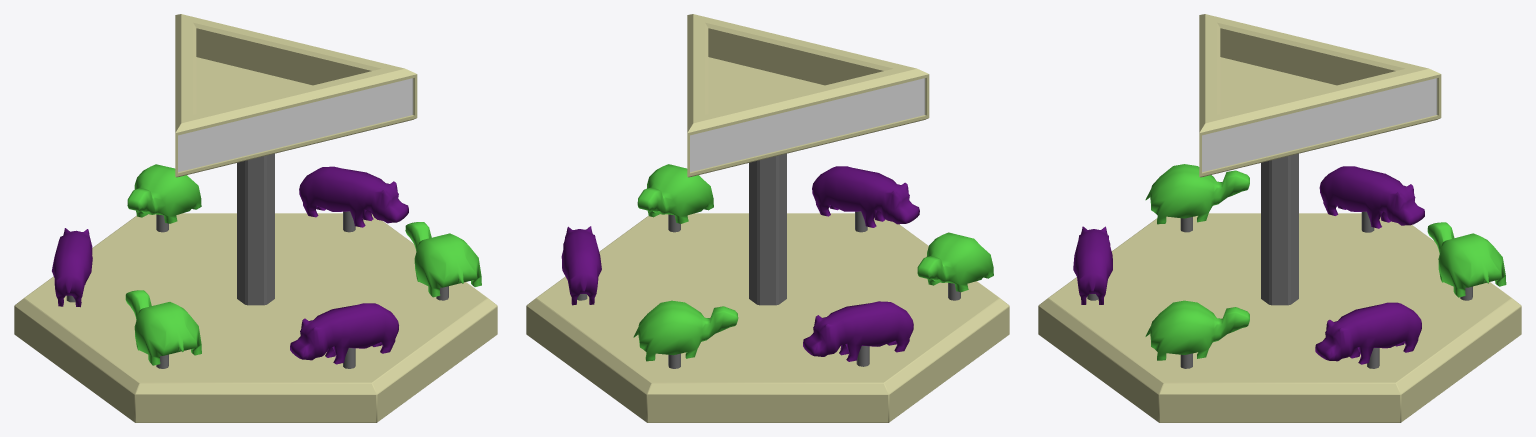
File: carousel.fbx
3 renders of one model, left to right at view 1: azimuth 30°, elevation 25°; view 2: azimuth 150°, elevation 25°; view 3: azimuth 270°, elevation 25°, orthographic.
Parts seen in each view (by area): view 1: Carousel_base, Carousel_billboard, Carousel_hippo_1, Carousel_hippo_2, Carousel_turtle_2, Carousel_turtle_1, Carousel_turtle_3, Carousel_hippo_3; view 2: Carousel_base, Carousel_billboard, Carousel_hippo_3, Carousel_hippo_2, Carousel_turtle_3, Carousel_turtle_2, Carousel_turtle_1, Carousel_hippo_1; view 3: Carousel_base, Carousel_billboard, Carousel_hippo_1, Carousel_hippo_3, Carousel_turtle_1, Carousel_turtle_2, Carousel_turtle_3, Carousel_hippo_2.
Part boxes in pixels (x1,y1,x2,y2): Carousel_base: (14, 153, 497, 422); Carousel_billboard: (175, 14, 417, 177); Carousel_hippo_1: (299, 166, 408, 232); Carousel_hippo_2: (290, 303, 398, 368); Carousel_turtle_2: (125, 290, 201, 368); Carousel_turtle_1: (405, 222, 481, 300); Carousel_turtle_3: (127, 164, 201, 232); Carousel_hippo_3: (52, 228, 92, 307); Carousel_base: (526, 153, 1009, 422); Carousel_billboard: (687, 14, 929, 177); Carousel_hippo_3: (803, 301, 913, 366); Carousel_hippo_2: (812, 166, 919, 232); Carousel_turtle_3: (633, 300, 738, 368); Carousel_turtle_2: (917, 232, 993, 300); Carousel_turtle_1: (637, 164, 713, 232); Carousel_hippo_1: (561, 226, 601, 305); Carousel_base: (1038, 153, 1521, 422); Carousel_billboard: (1199, 14, 1441, 177); Carousel_hippo_1: (1315, 302, 1421, 368); Carousel_hippo_3: (1319, 166, 1424, 232); Carousel_turtle_1: (1145, 300, 1249, 368); Carousel_turtle_2: (1145, 164, 1249, 232); Carousel_turtle_3: (1427, 222, 1506, 300); Carousel_hippo_2: (1073, 226, 1112, 304).
Bounding box in the file's own units: 5.2 × 3.93 × 5.99.
